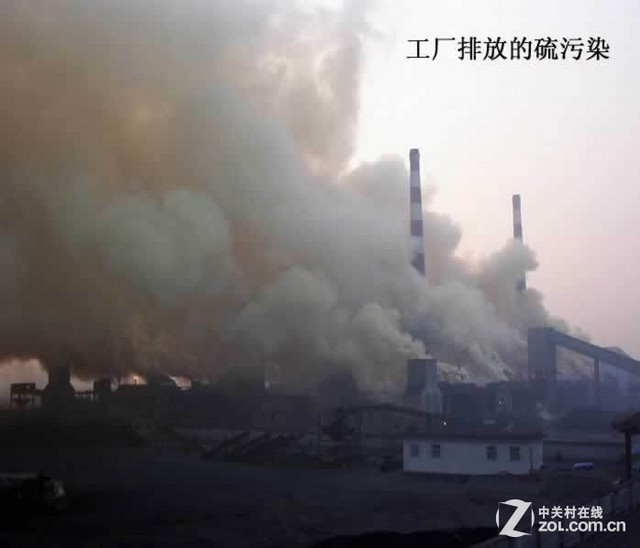dust: (10, 14, 249, 389), (264, 135, 604, 392), (175, 158, 444, 372)
